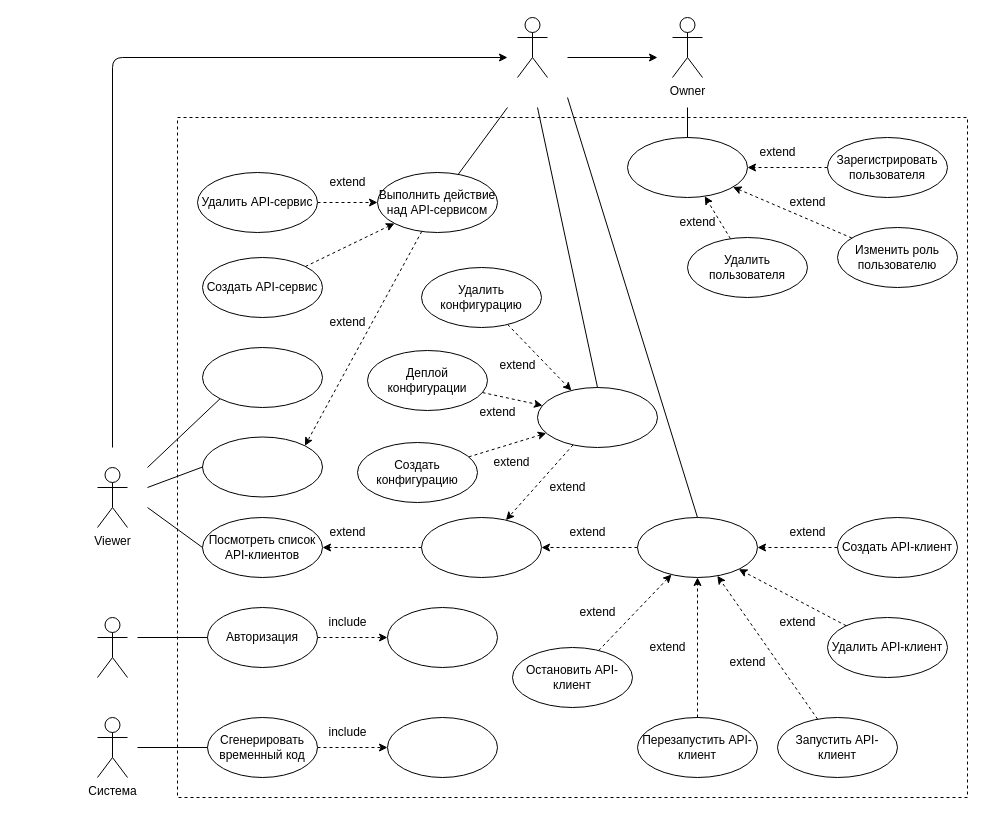
Image size: 985x816. Some labels were removed from this diagram. The box of each missing label's shape, as (x1, y1, x2, y2) in pixels:
Operator: (516, 16, 548, 78)
Вписать код с почты: (386, 606, 498, 668)
Выйти из аккаунта: (202, 346, 322, 408)
Выполнить действие над API-клиентом: (636, 516, 758, 578)
Выполнить действия над конфигурацией: (536, 386, 658, 448)
Не авторизованный пользователь: (96, 616, 128, 678)
Отправить код на почту пользователю: (386, 716, 498, 778)
Посмотреть конкретный API-клиент: (420, 516, 542, 578)
Посмотреть список API-сервисов: (202, 436, 322, 497)
Посмотреть список пользователей: (626, 136, 748, 198)
